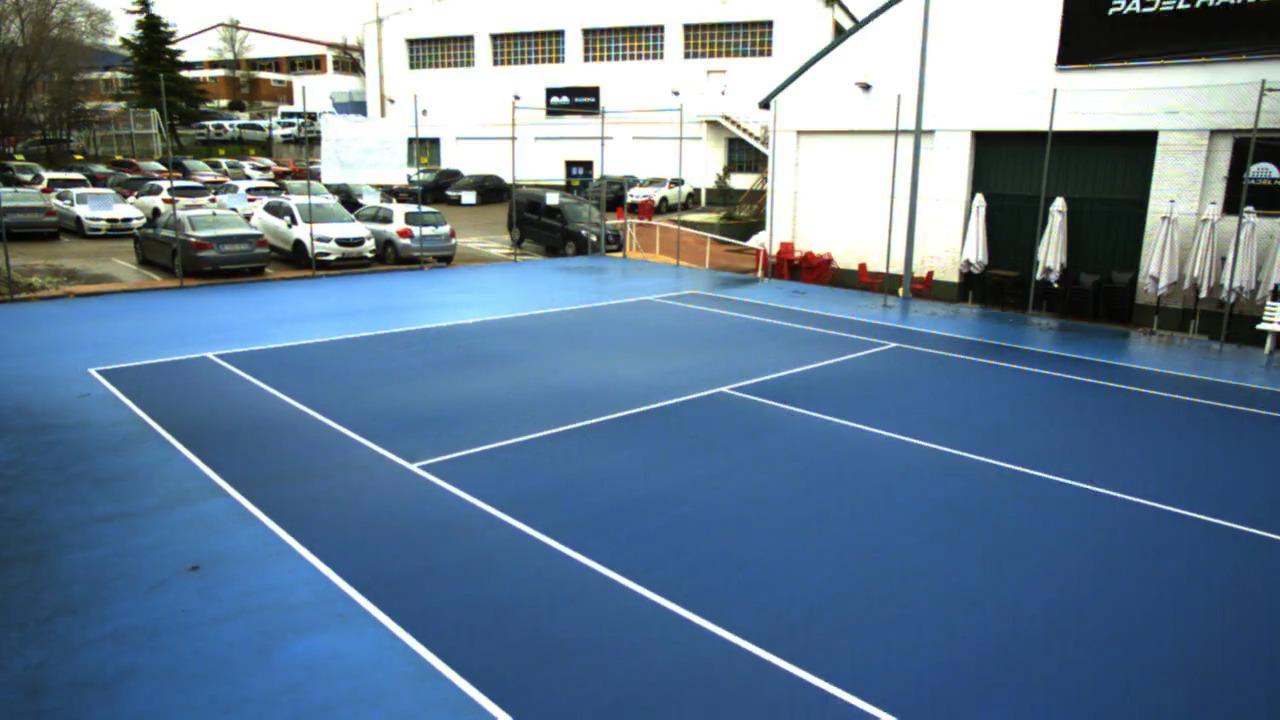cancha_tenis: (209, 294, 1280, 720)
point_f1: (198, 340, 227, 365)
point_f2: (640, 288, 664, 308)
point_fc1: (465, 313, 480, 328)
point_i1: (397, 449, 433, 479)
point_i2: (882, 332, 906, 356)
point_ic1: (709, 377, 744, 404)
